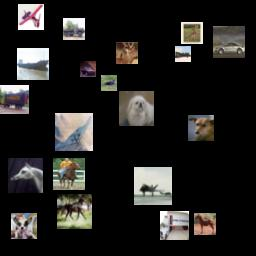airplane: (134, 167, 172, 205), (55, 113, 93, 151), (18, 4, 44, 30), (175, 46, 191, 62)
automobile: (213, 26, 245, 58), (80, 61, 96, 77)
bird: (101, 75, 117, 91)
deer: (116, 42, 138, 64), (181, 22, 203, 44)
dog: (119, 91, 154, 126), (11, 213, 37, 239), (188, 115, 214, 141)
ship: (17, 48, 49, 80)
truck: (0, 85, 29, 114), (160, 211, 189, 240), (63, 18, 85, 40)
